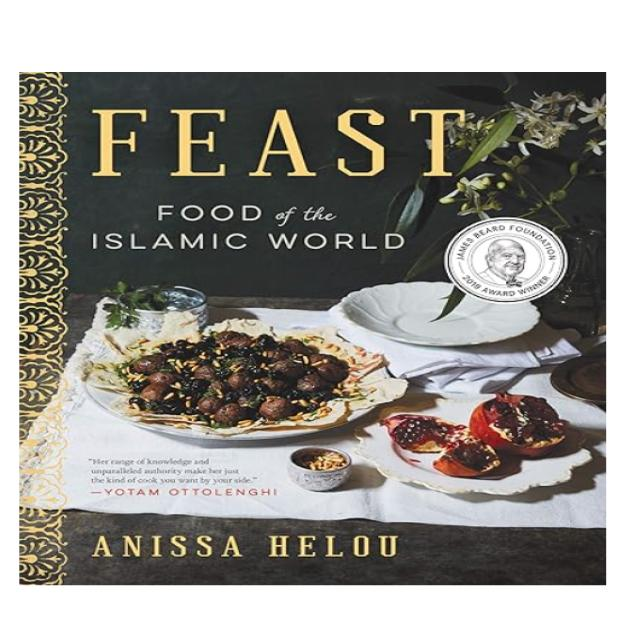titles-or-authors: (81, 97, 470, 259), (78, 529, 411, 566)
